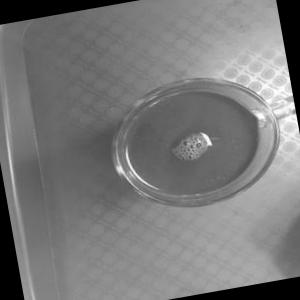coffee: (92, 45, 300, 237)
